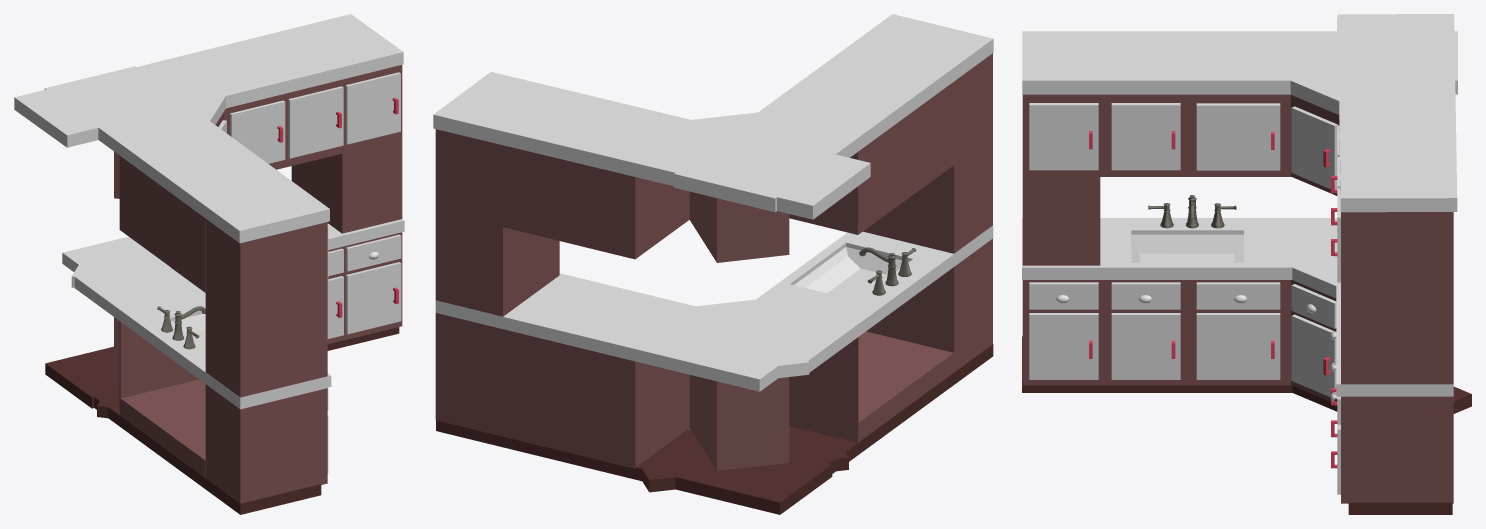
File: szafki.fbx
The picture shows the model from 3 angles, left to right: view 1: azimuth 30°, elevation 25°; view 2: azimuth 150°, elevation 25°; view 3: azimuth 270°, elevation 25°; orthographic projection. The views are drawn at different scales.
Visible parts, largest first — view 1: Cube.060, Cube.059, Cube.006, Cube.070, Cube.091, Cube.011, Cube.072, Cube.004, Cube.093, Cube.080, Cube.017, Cube.073 (+16 smaller); view 2: Cube.060, Cube.059, Cube.012, Cube.011, Cube.010, Cube.072, Cube.087, Cube.007, Cube.006, Cube.004, Cube.070, Cube.008 (+14 smaller); view 3: Cube.060, Cube.059, Cube.011, Cube.009, Cube.072, Cube.088, Cube.070, Cube.084, Cube.013, Cube.076, Cube.075, Cube.021 (+22 smaller).
Part boxes in pixels (x1,y1,x2,y2): Cube.060: [14, 14, 403, 147]; Cube.059: [44, 66, 329, 243]; Cube.006: [205, 384, 327, 503]; Cube.070: [205, 290, 327, 409]; Cube.091: [205, 219, 327, 318]; Cube.011: [75, 277, 331, 409]; Cube.072: [291, 132, 402, 233]; Cube.004: [119, 321, 205, 452]; Cube.093: [119, 156, 170, 266]; Cube.080: [345, 72, 400, 144]; Cube.017: [346, 262, 401, 334]; Cube.073: [288, 86, 343, 158]; Cube.060: [433, 72, 870, 219]; Cube.059: [674, 14, 993, 212]; Cube.012: [435, 273, 778, 391]; Cube.011: [704, 225, 993, 372]; Cube.010: [568, 345, 689, 468]; Cube.072: [435, 202, 559, 330]; Cube.087: [568, 161, 689, 259]; Cube.007: [689, 375, 789, 470]; Cube.006: [866, 238, 992, 372]; Cube.004: [789, 337, 915, 442]; Cube.070: [863, 137, 992, 253]; Cube.008: [502, 329, 569, 452]; Cube.060: [1337, 14, 1457, 212]; Cube.059: [1022, 31, 1457, 94]; Cube.011: [1022, 218, 1337, 279]; Cube.009: [1341, 396, 1453, 503]; Cube.072: [1341, 286, 1453, 397]; Cube.088: [1341, 212, 1453, 294]; Cube.070: [1022, 167, 1100, 265]; Cube.084: [1196, 103, 1280, 170]; Cube.013: [1196, 313, 1280, 379]; Cube.076: [1029, 103, 1098, 170]; Cube.075: [1111, 103, 1180, 170]; Cube.021: [1029, 313, 1098, 379].
Size of what is drawn, in the model's own units: 471 by 377 by 485.
